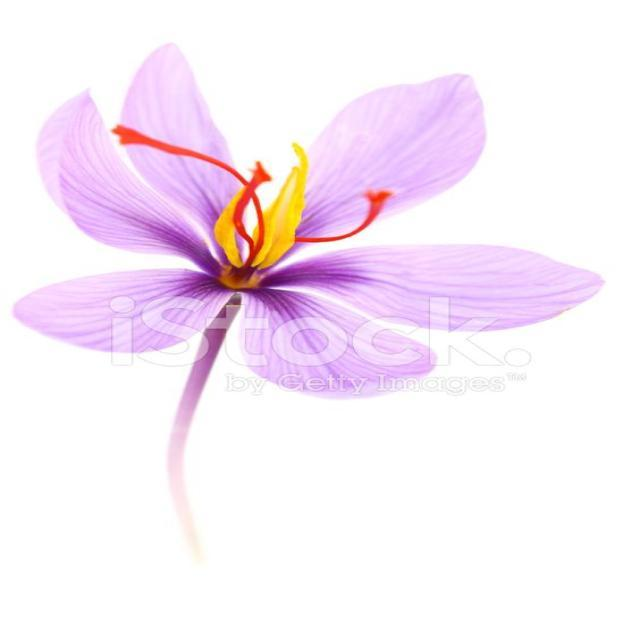Flower: (15, 45, 602, 400)
stigma: (109, 118, 268, 260), (296, 181, 398, 245), (230, 158, 276, 268)
